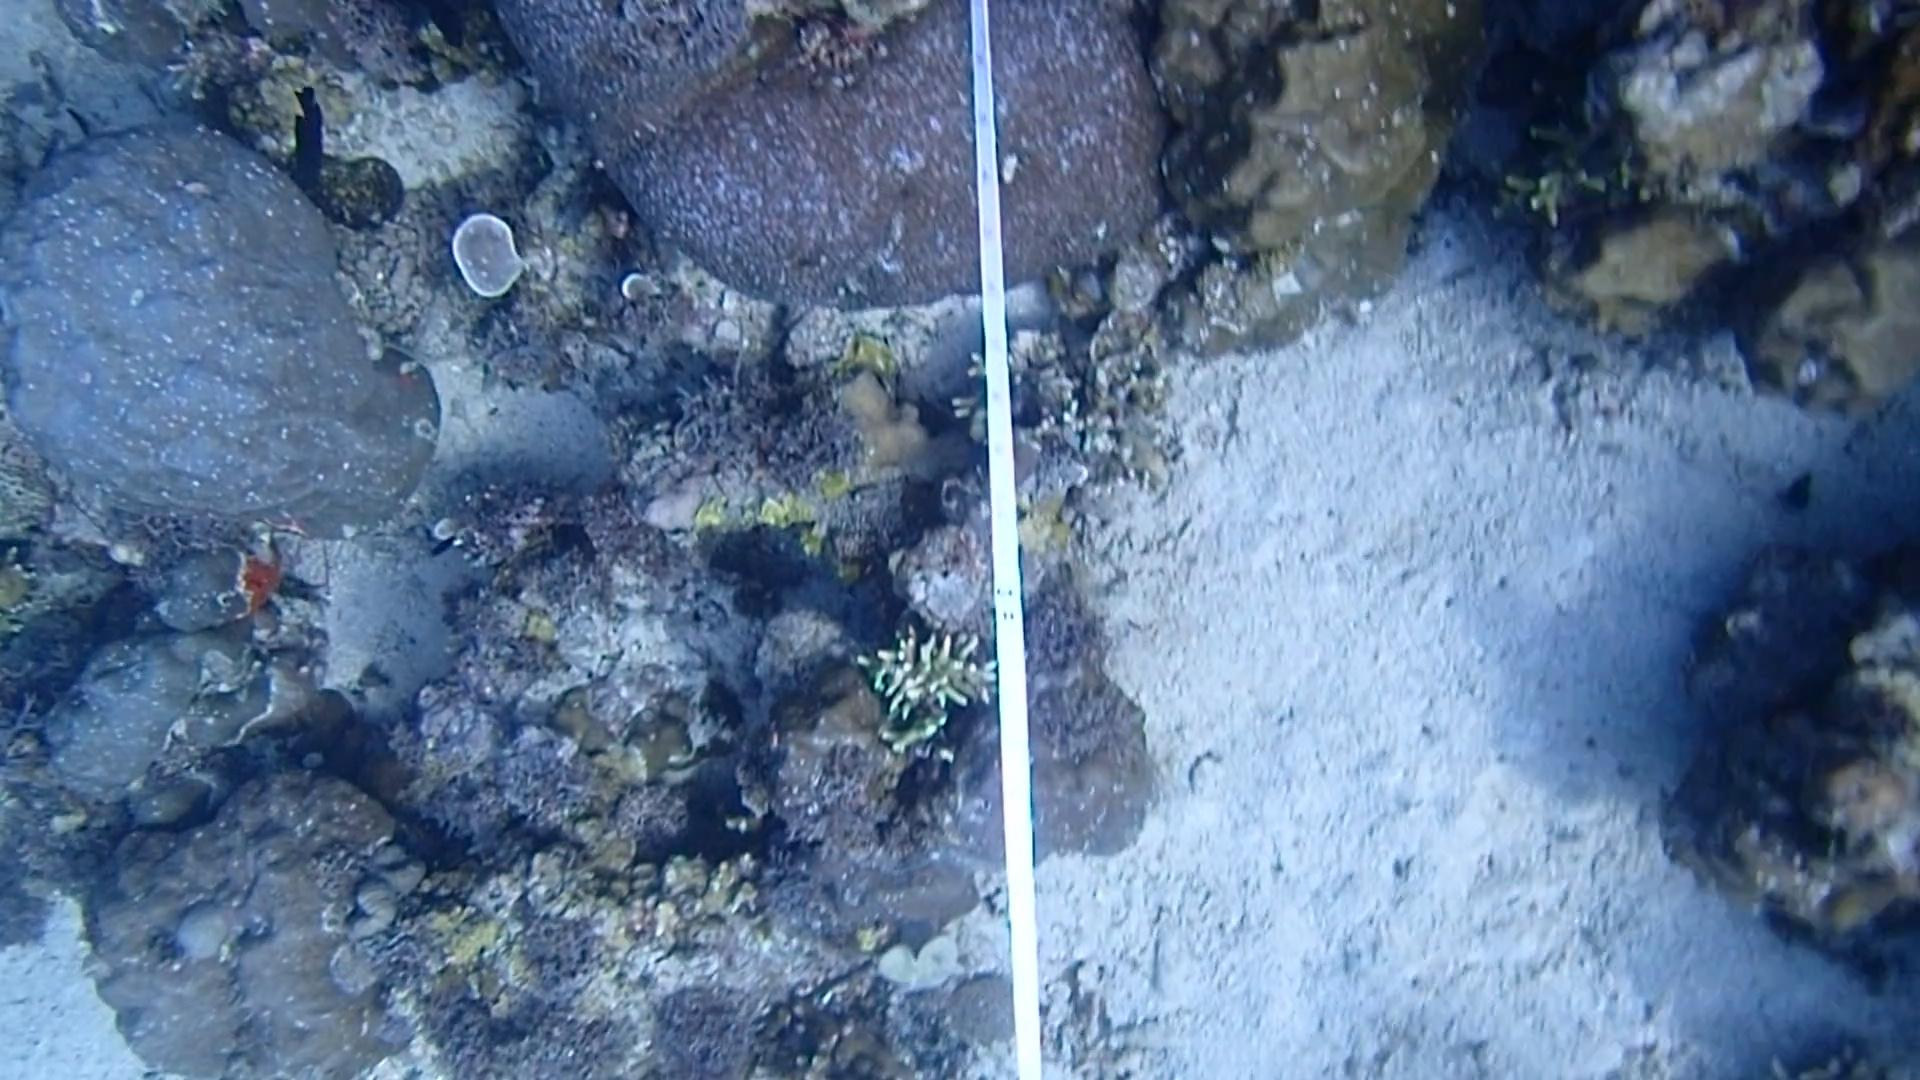Dark Fish: (276, 82, 340, 203)
